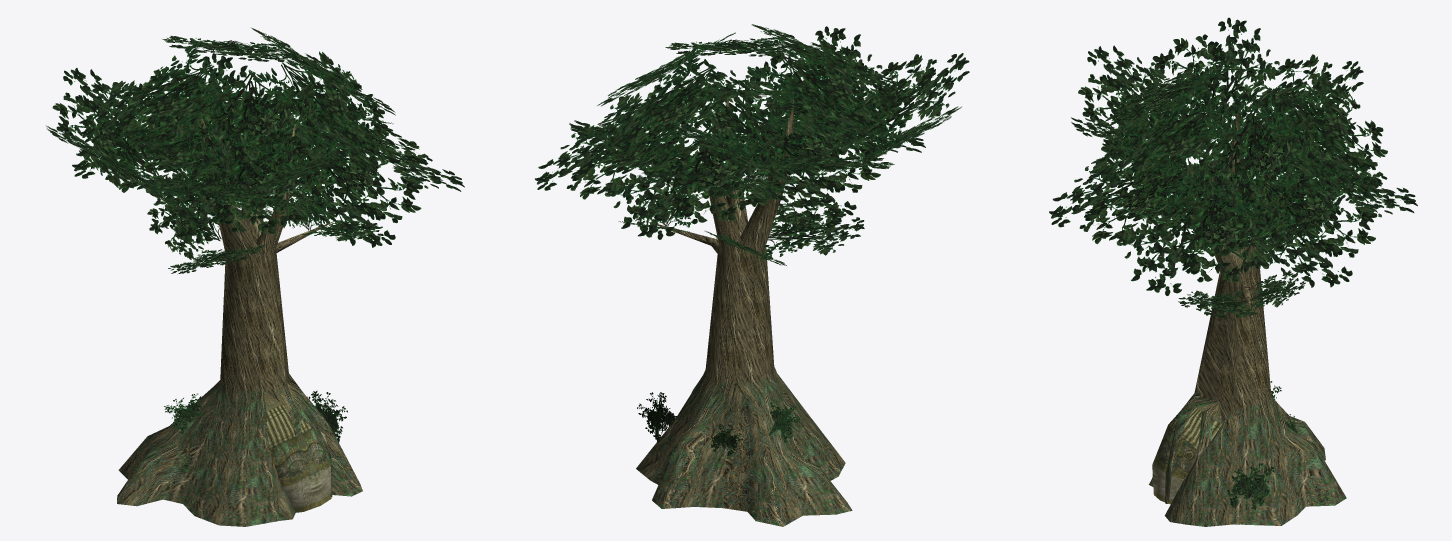
File: swmp_decd_sacredtree_l3.fbx
The picture shows the model from 3 angles, left to right: view 1: azimuth 30°, elevation 25°; view 2: azimuth 150°, elevation 25°; view 3: azimuth 270°, elevation 25°; orthographic projection. The views are drawn at different scales.
Parts seen in each view (by area): view 1: mesh_node; view 2: mesh_node; view 3: mesh_node.
Boxes of the visible parts, <box> form: mesh_node: <box>46,27,464,526</box>; mesh_node: <box>535,24,969,526</box>; mesh_node: <box>1049,17,1417,526</box>.
Size of the model in its own units: 40.53 by 41.66 by 37.48.
